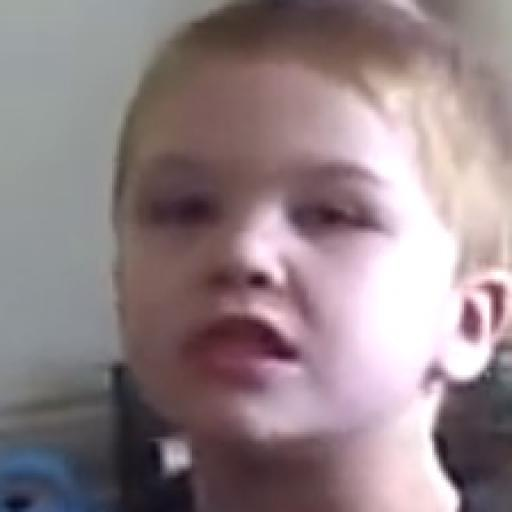Autism: (123, 39, 512, 455)
